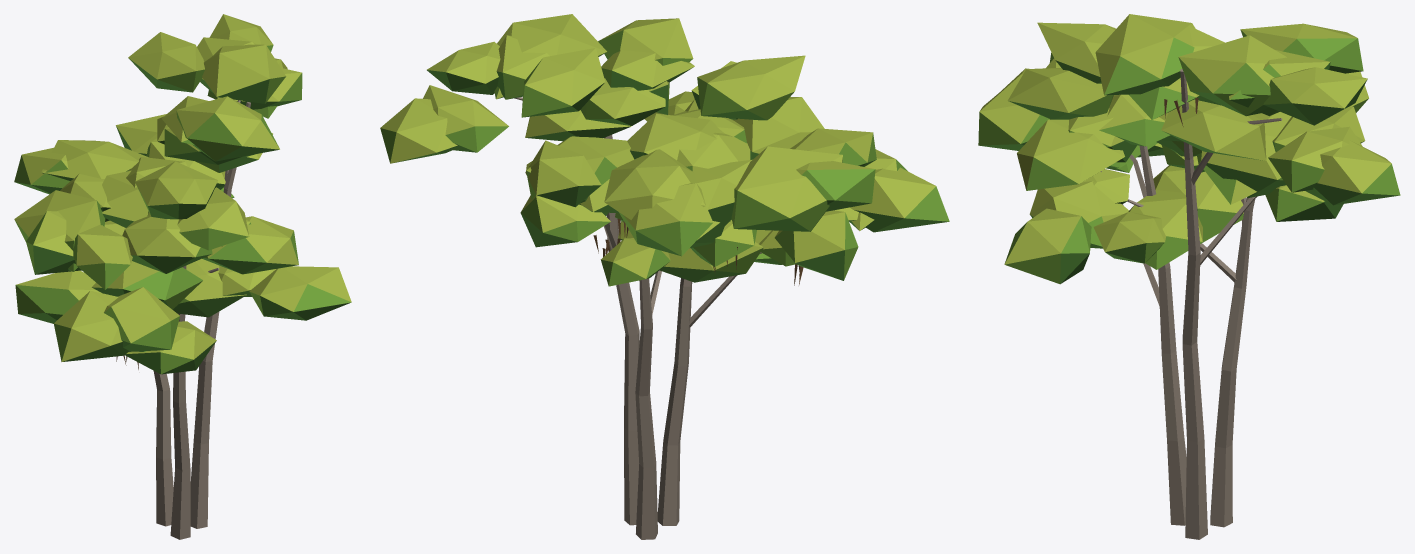
File: T07_IpilIpilCluster.glb
3 views of the same model, side by side, from view 1: azimuth 30°, elevation 25°; view 2: azimuth 150°, elevation 25°; view 3: azimuth 270°, elevation 25° (orthographic). The views are drawn at different scales.
Visible parts, largest first — view 1: T07_IpilIpilCluster; view 2: T07_IpilIpilCluster; view 3: T07_IpilIpilCluster.
Boxes of the visible parts, <box> form: T07_IpilIpilCluster: <box>14,14,351,539</box>; T07_IpilIpilCluster: <box>380,14,949,539</box>; T07_IpilIpilCluster: <box>978,14,1400,539</box>.
Size of the model in its own units: 4.19 by 4.82 by 3.51.
